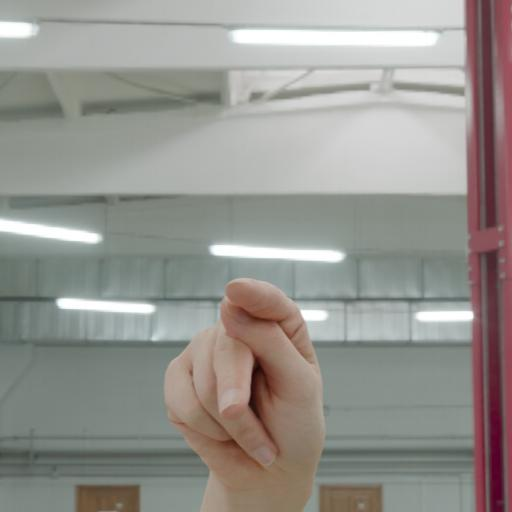P: (141, 272, 365, 512)
